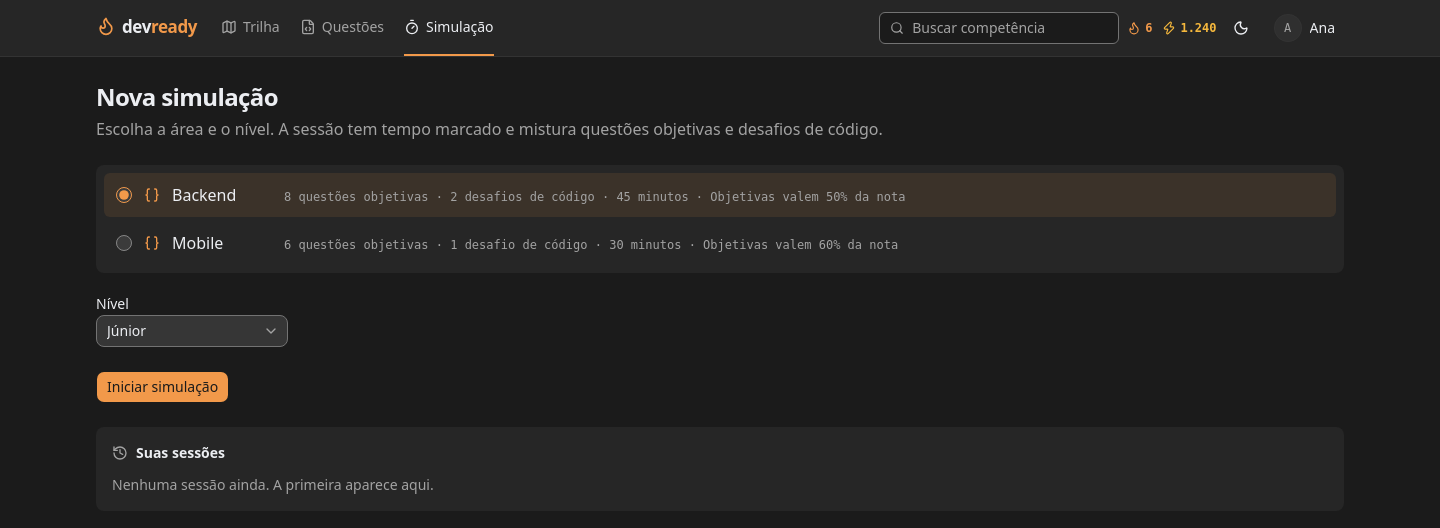
Test: NewSimulationPage › volta para o primeiro nível da área quando o escolhido não existe nela
Click the radio button labelled "Backend" at x=124, y=195, box [116,187,132,203]
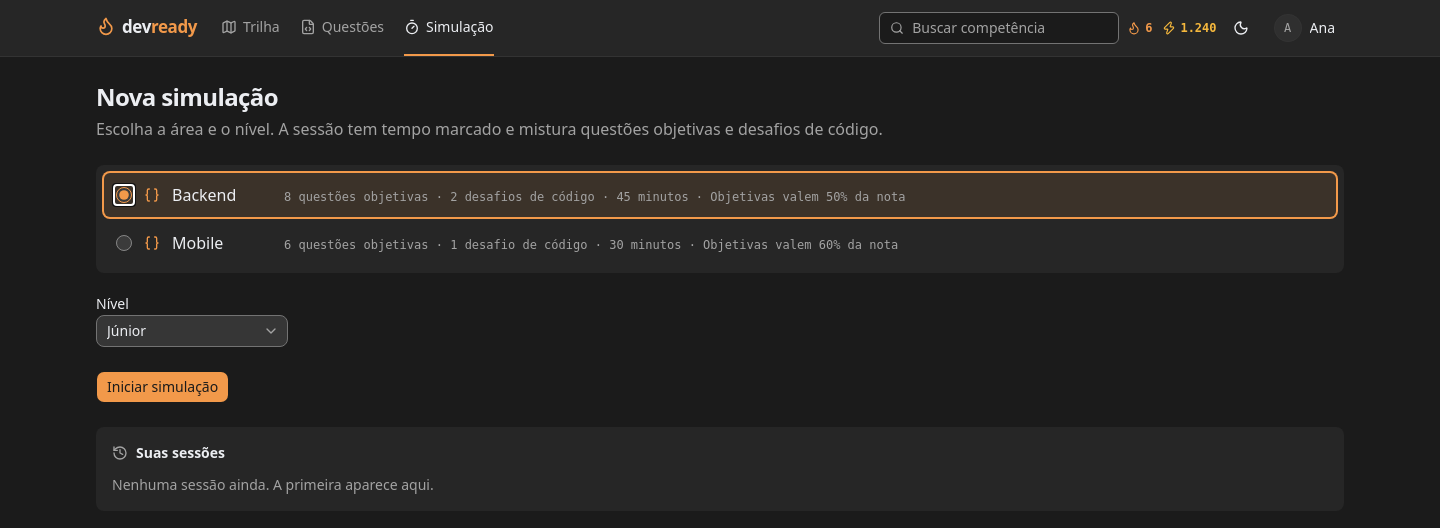
Click the dropdown named "Nível" at x=192, y=331, box [96,315,288,347]
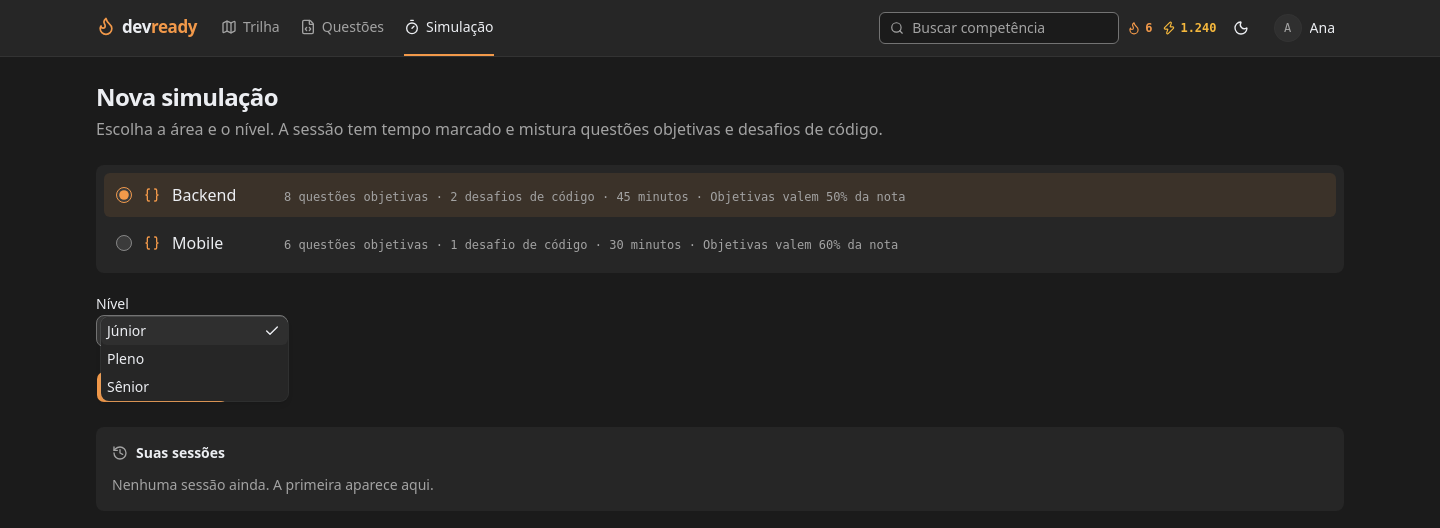
Click the option "Pleno" at x=126, y=358, box [107,349,144,368]
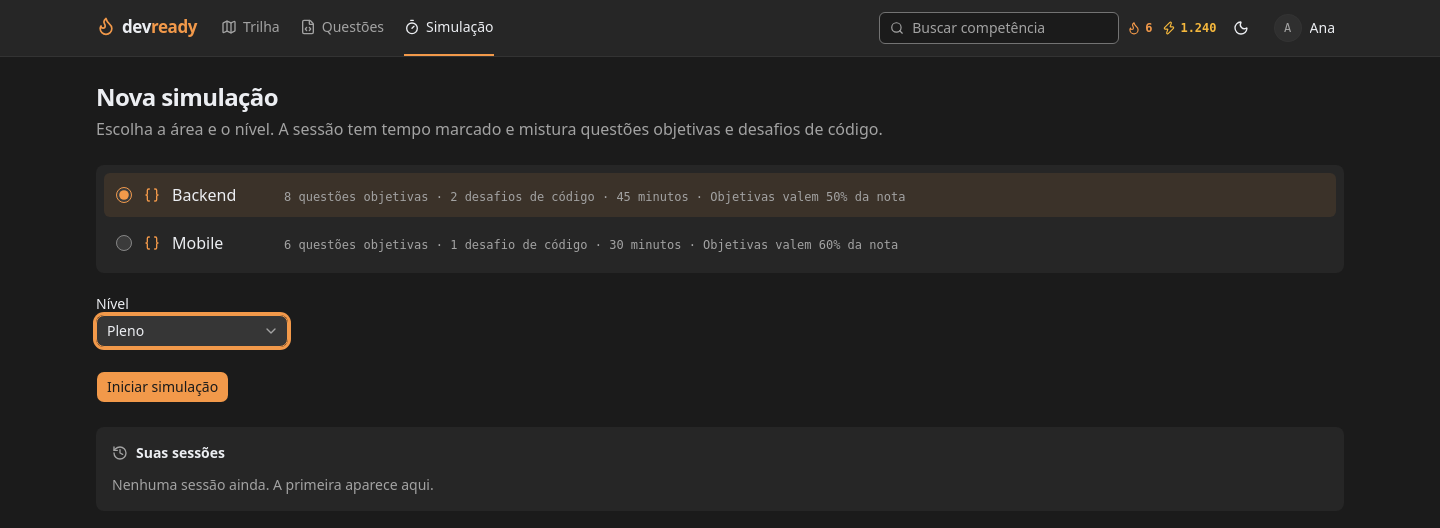
Now the dropdown named "Nível" reads "Pleno", box [96,315,288,347]
Click the radio button labelled "Mobile" at x=124, y=243, box [116,235,132,251]
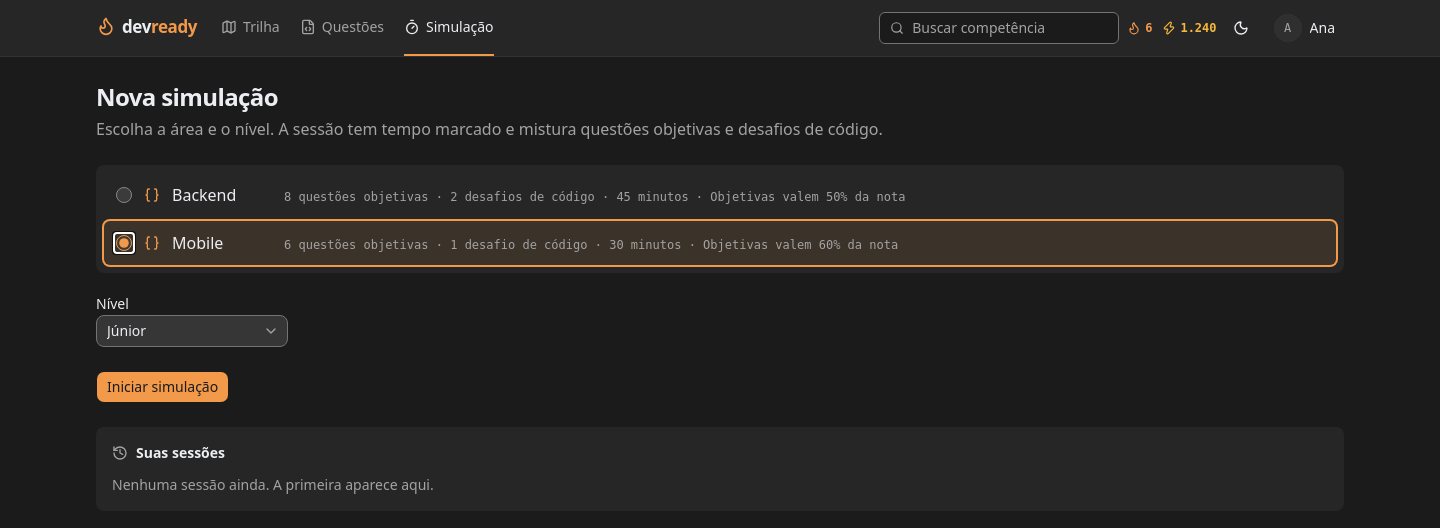
Now the dropdown named "Nível" reads "Júnior", box [96,315,288,347]
